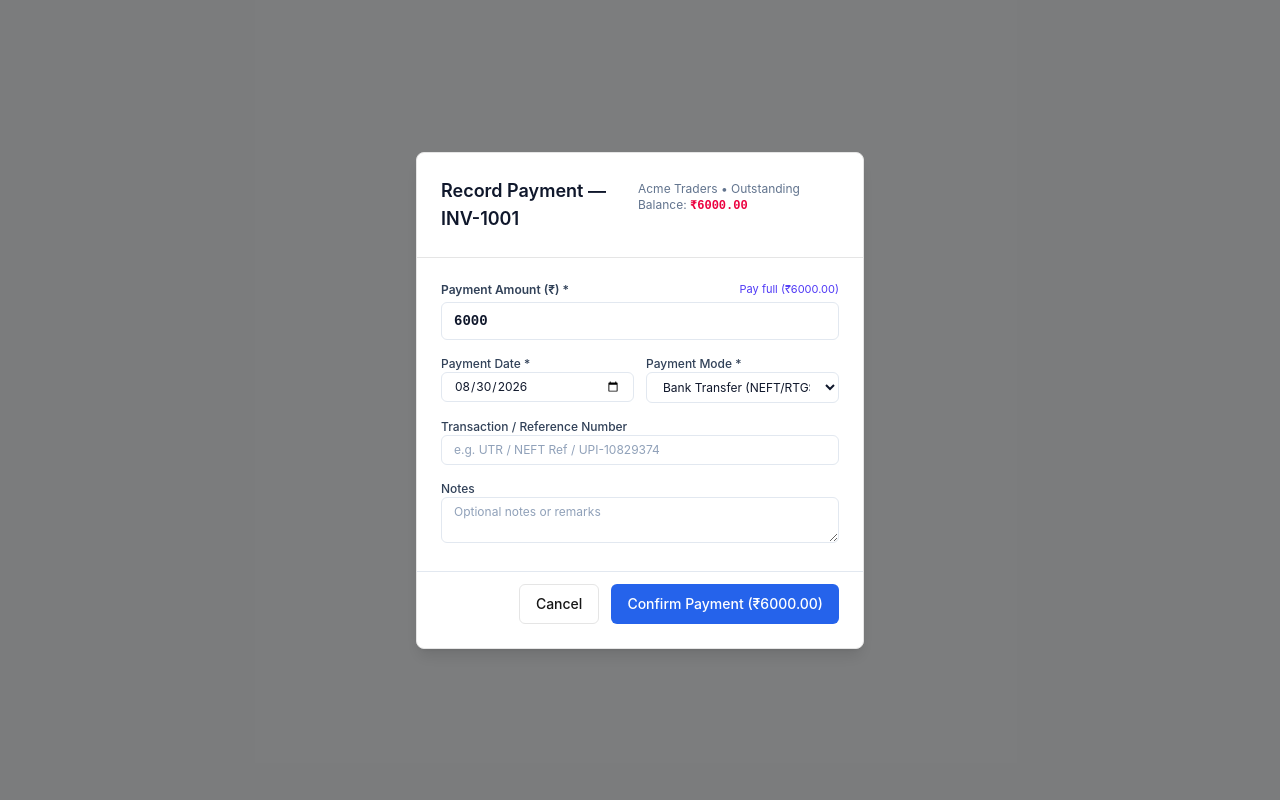
Test case: RecordPaymentModal › shows an error when amount is zero or negative
Replace the text in the number field with "0". click: {"x": 640, "y": 320}
box: 441,302 -> 839,340
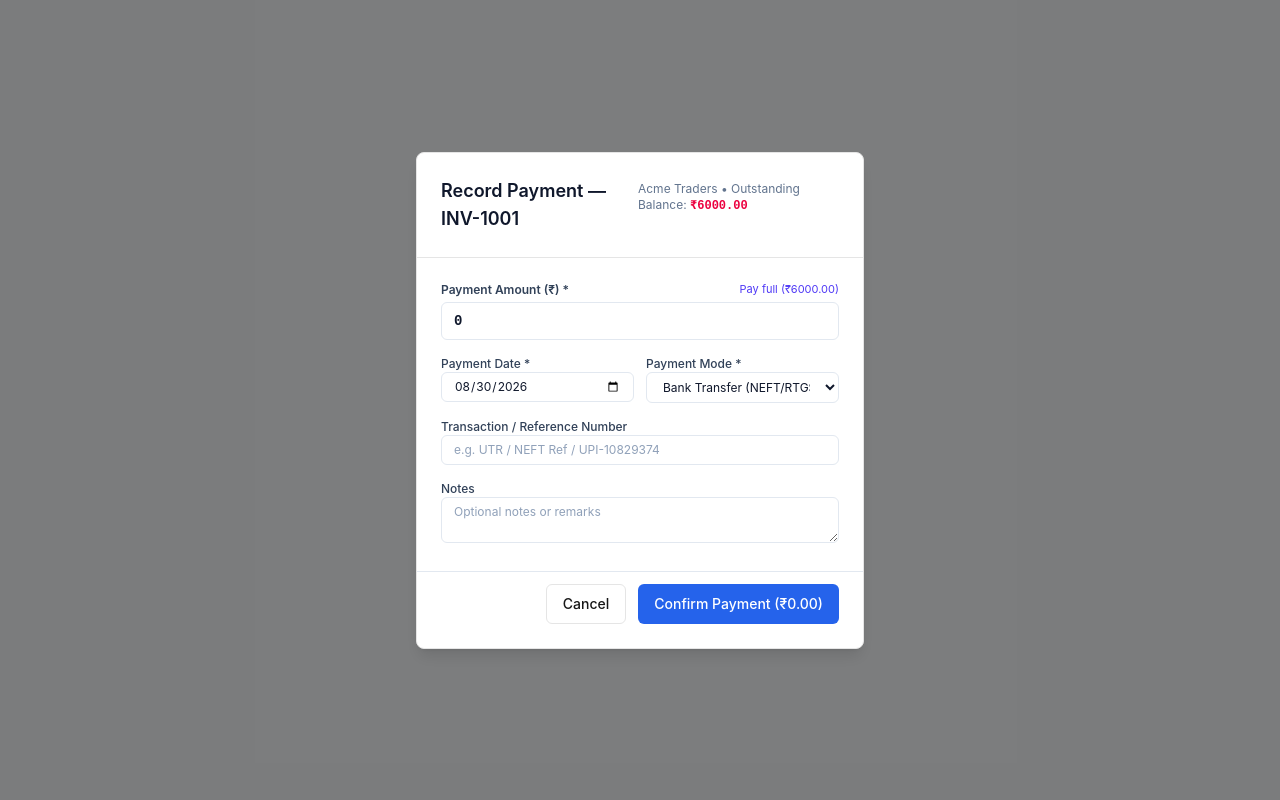
Click the button "Confirm Payment (₹0.00)". click: {"x": 739, "y": 604}
box: 638,584 -> 839,624
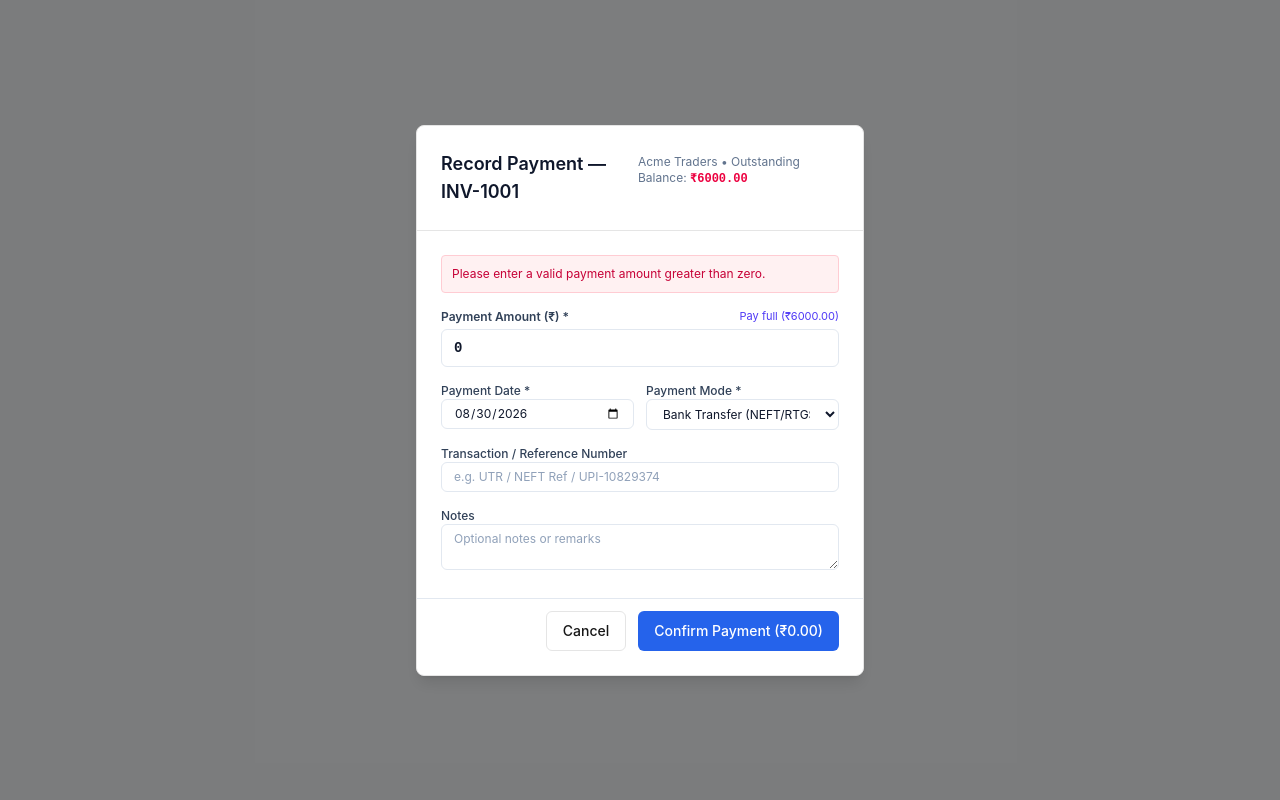
Expected: the text "Please enter a valid payment amount greater than zero." is shown, 441,254 -> 839,292
